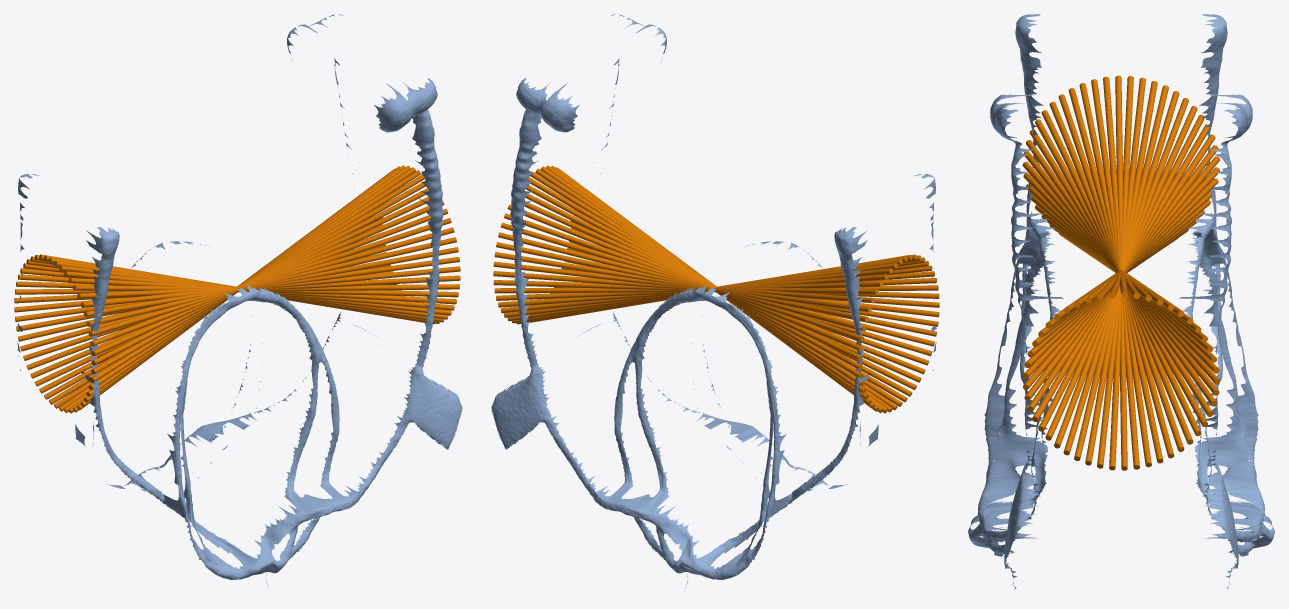
The model's file is A20023512_6145-37-530-7660_DigitalTwin.glb.
3 views of the same model, side by side, from view 1: azimuth 30°, elevation 25°; view 2: azimuth 150°, elevation 25°; view 3: azimuth 270°, elevation 25° (orthographic). The views are drawn at different scales.
Visible parts, largest first — view 1: world; view 2: world; view 3: world.
Boxes of the visible parts, box(x1,y1,x2,y2) form: world: box(14, 14, 462, 591); world: box(491, 14, 939, 591); world: box(968, 14, 1274, 589).
Size of the model in its own units: 323 by 400 by 192.
